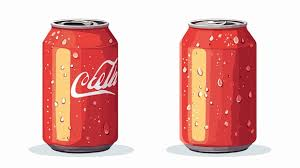can: (178, 19, 257, 154), (43, 20, 118, 153)
